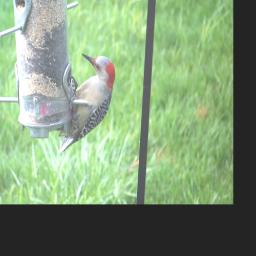Woodpecker: (56, 53, 115, 156)
